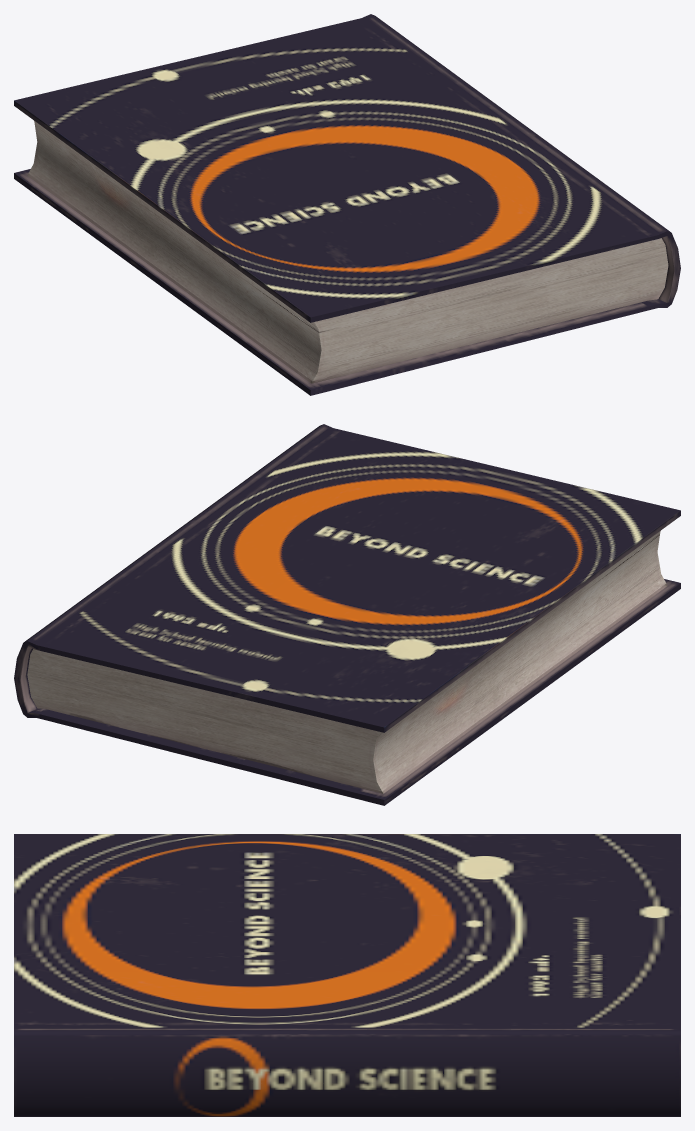
The model's file is SM_Books_03e.fbx.
3 views of the same model, one above another, from view 1: azimuth 30°, elevation 25°; view 2: azimuth 150°, elevation 25°; view 3: azimuth 270°, elevation 25° (orthographic). The views are drawn at different scales.
Parts seen in each view (by area): view 1: SM_Books_03e_LOD0; view 2: SM_Books_03e_LOD0; view 3: SM_Books_03e_LOD0.
Boxes of the visible parts, box(x1,y1,x2,y2) form: SM_Books_03e_LOD0: box(14, 14, 680, 395); SM_Books_03e_LOD0: box(14, 424, 680, 805); SM_Books_03e_LOD0: box(14, 834, 680, 1116).
Size of the model in its own units: 15.52 by 21.53 by 3.14.
Materials: 1 (1 with a texture image).
